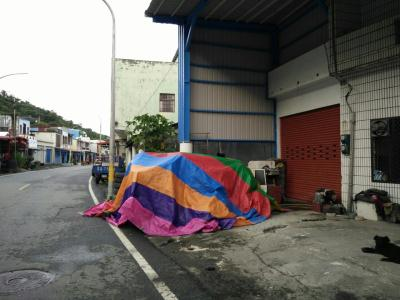plastic_bag: (120, 153, 262, 227)
